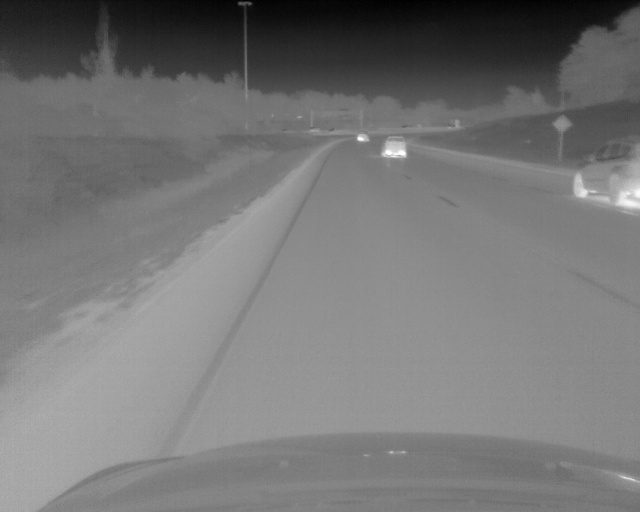car: (571, 139, 640, 205), (382, 135, 406, 158), (356, 132, 370, 141)
